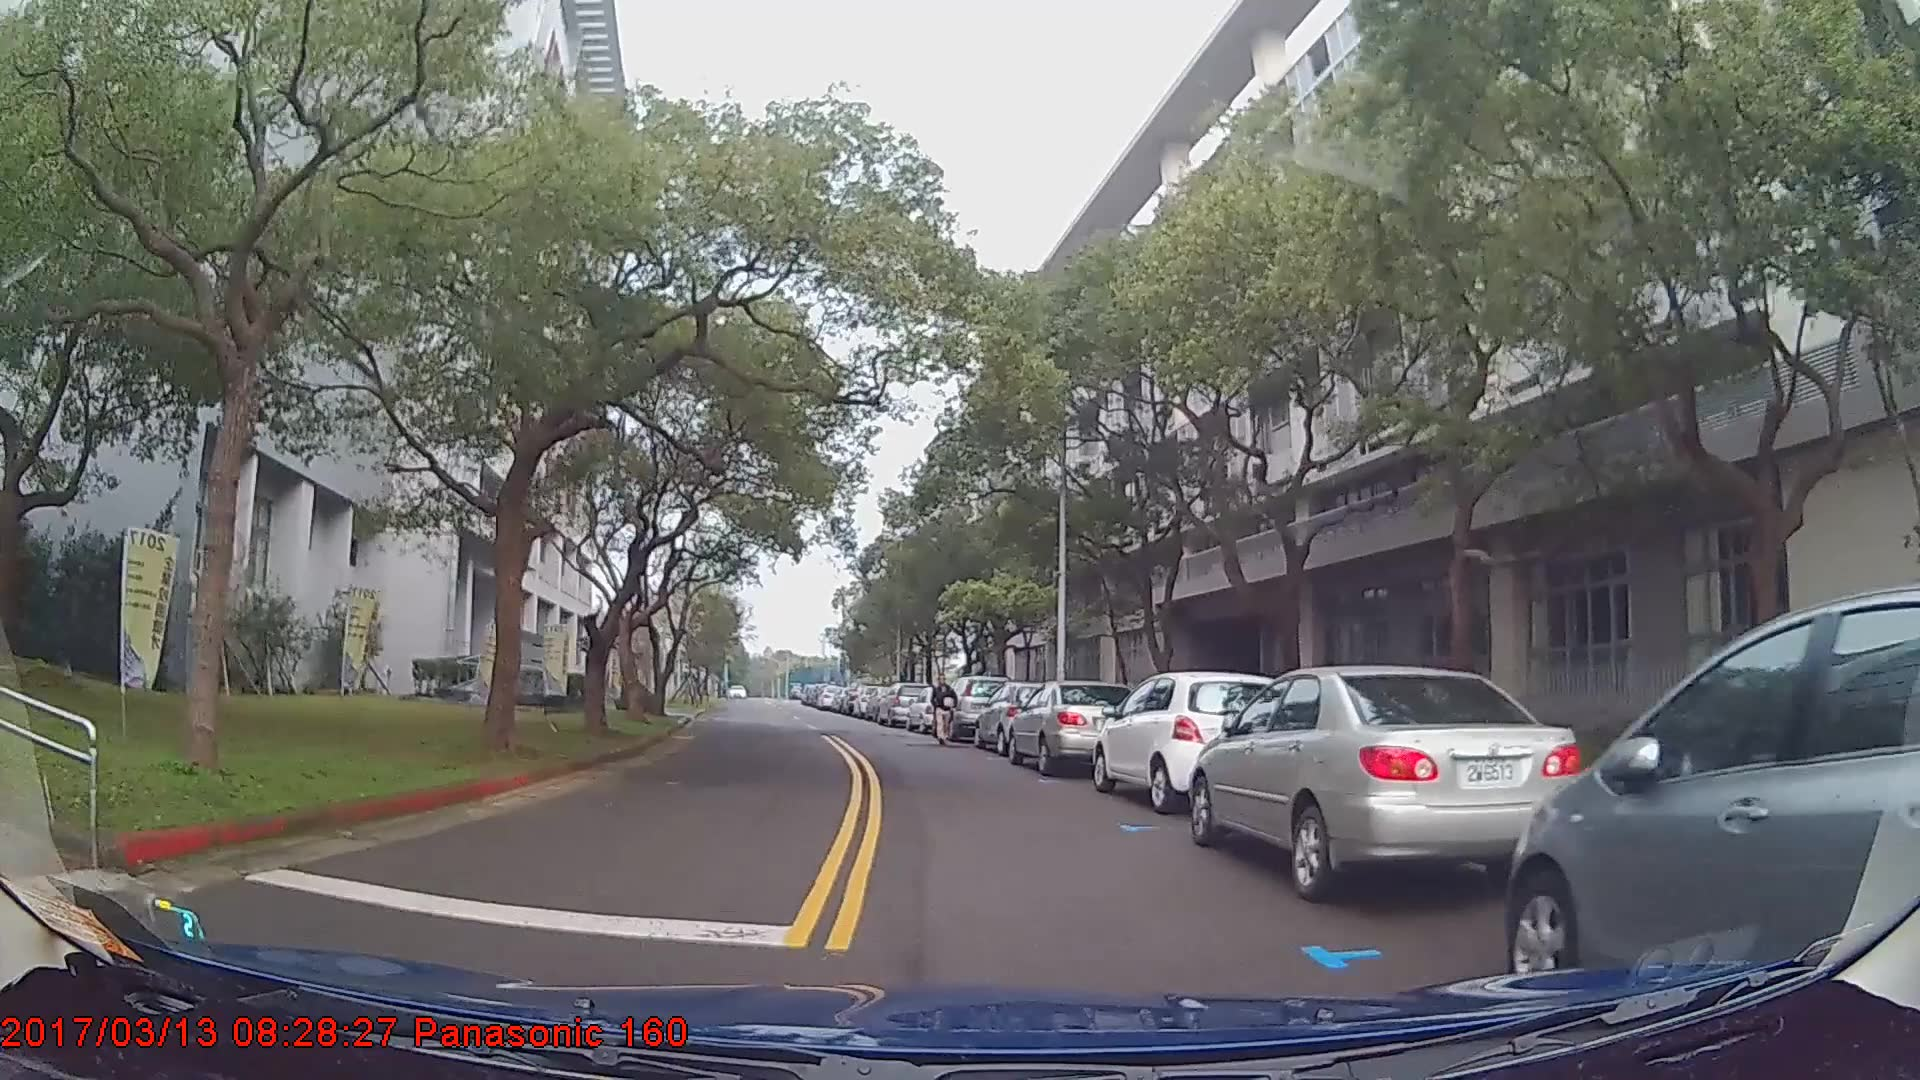pedestrian: (930, 676, 958, 750)
vehicle: (1504, 583, 1920, 1002), (1188, 661, 1581, 902), (1092, 669, 1286, 815), (1007, 681, 1136, 778), (973, 681, 1073, 759), (941, 676, 1010, 743), (871, 681, 930, 728)
